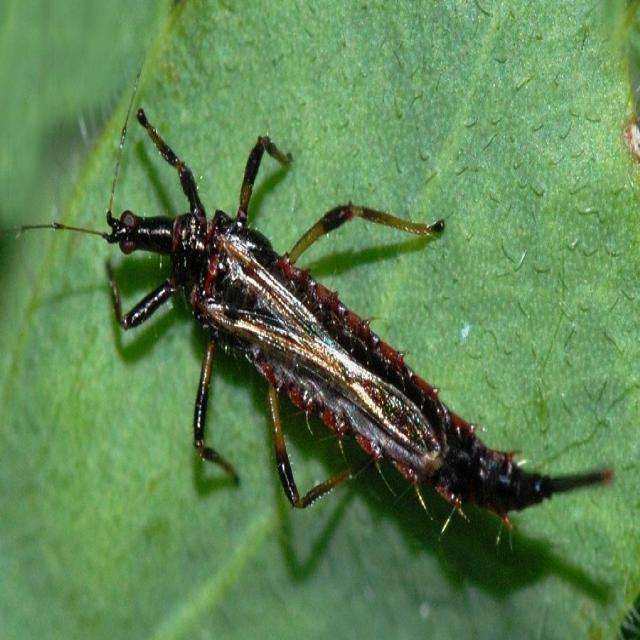Thrip-Adult-: (88, 97, 626, 556)
